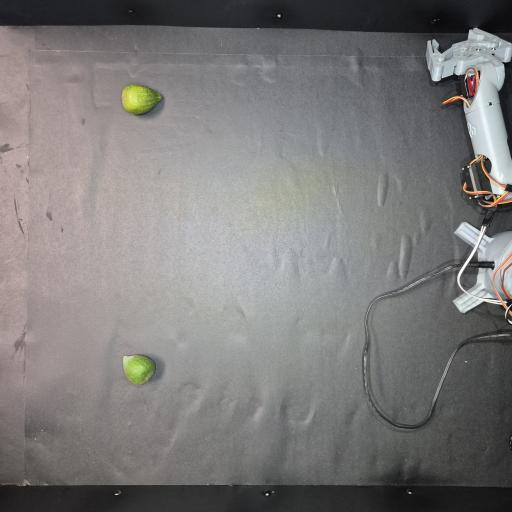higo: (121, 84, 162, 115), (123, 355, 155, 385)
